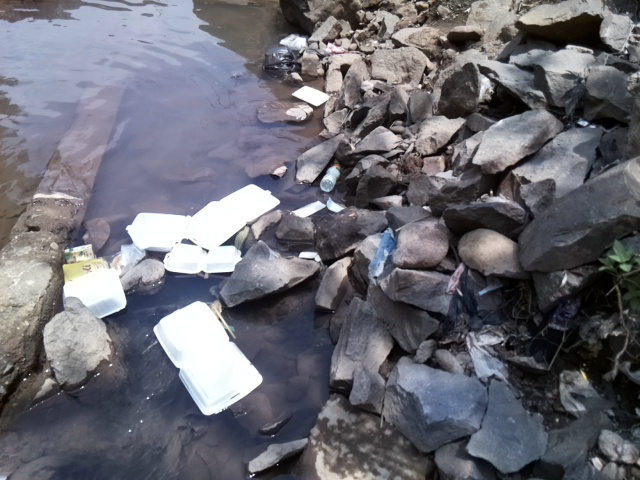Sampah_Botol_Plastik: (318, 161, 341, 196)
Sampah_Plastik: (264, 43, 300, 78), (277, 33, 312, 50)
Sampah_Styrofoam: (130, 181, 282, 278), (151, 298, 265, 419), (57, 242, 132, 322)
